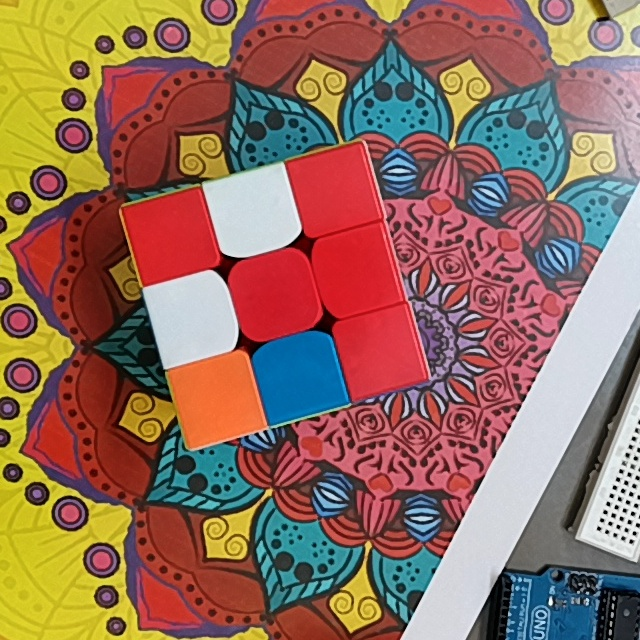tile: (245, 262, 308, 326), (186, 366, 250, 429), (162, 284, 224, 346), (328, 239, 389, 302), (139, 205, 201, 266), (351, 320, 412, 381), (222, 182, 284, 242), (303, 159, 366, 218), (270, 346, 331, 405)
